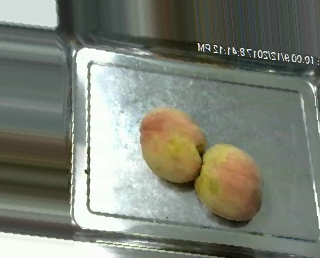Peach: (195, 143, 264, 221), (139, 106, 206, 185)
